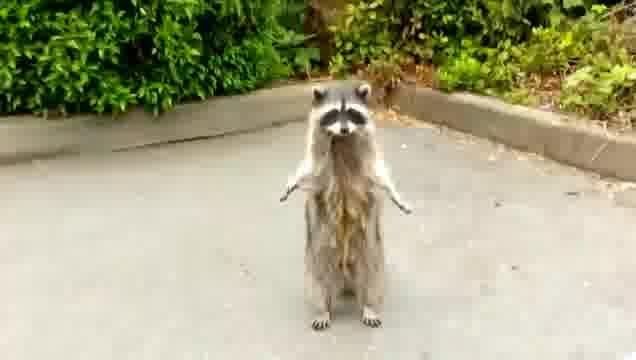raccoon: (279, 82, 413, 331)
